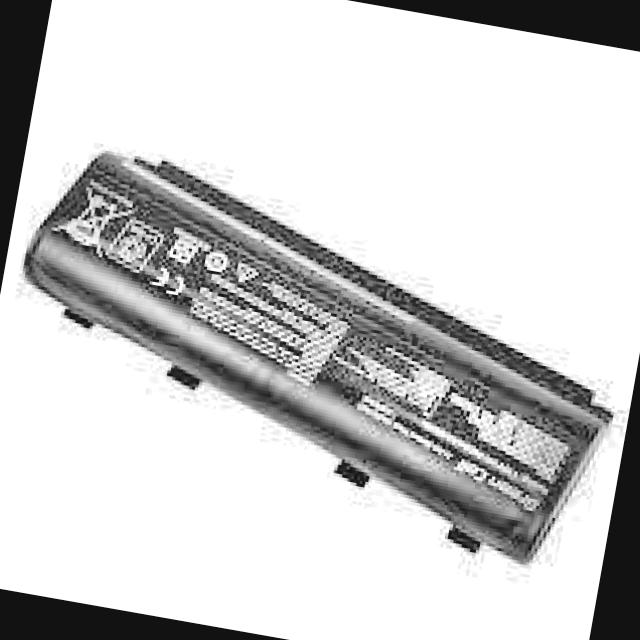Battery: (0, 115, 640, 592)
